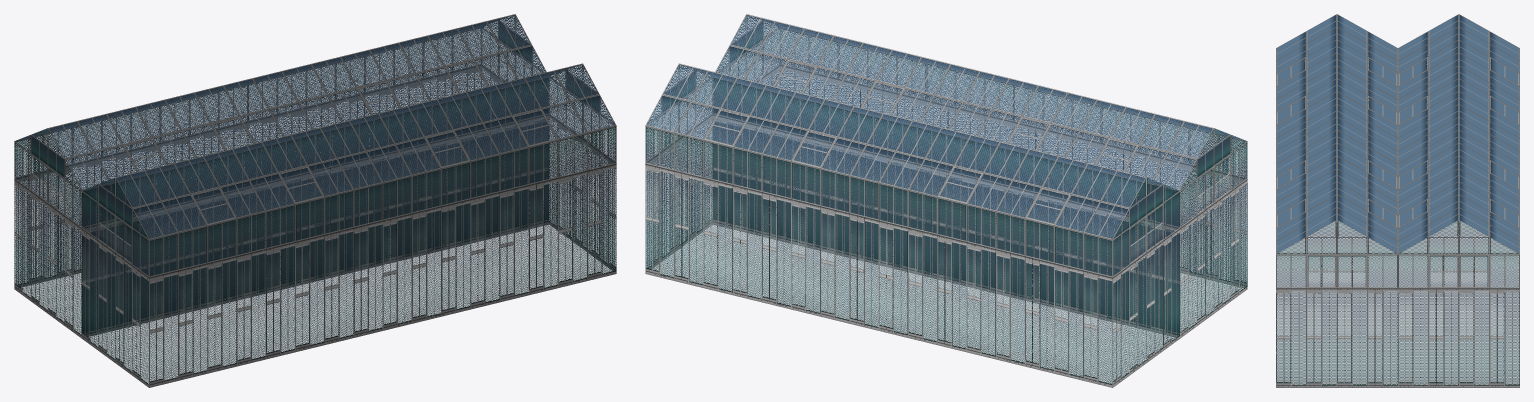
File: kas_mod1_2a.fbx
The picture shows the model from 3 angles, left to right: view 1: azimuth 30°, elevation 25°; view 2: azimuth 150°, elevation 25°; view 3: azimuth 270°, elevation 25°; orthographic projection. The views are drawn at different scales.
Visible parts, largest first — view 1: kas_mod1_2a; view 2: kas_mod1_2a; view 3: kas_mod1_2a.
Part boxes in pixels (bbox=[...]): kas_mod1_2a: bbox=[14, 14, 616, 387]; kas_mod1_2a: bbox=[645, 14, 1247, 387]; kas_mod1_2a: bbox=[1276, 14, 1519, 387].
Size of the model in its own units: 4000 by 1519 by 2000.
